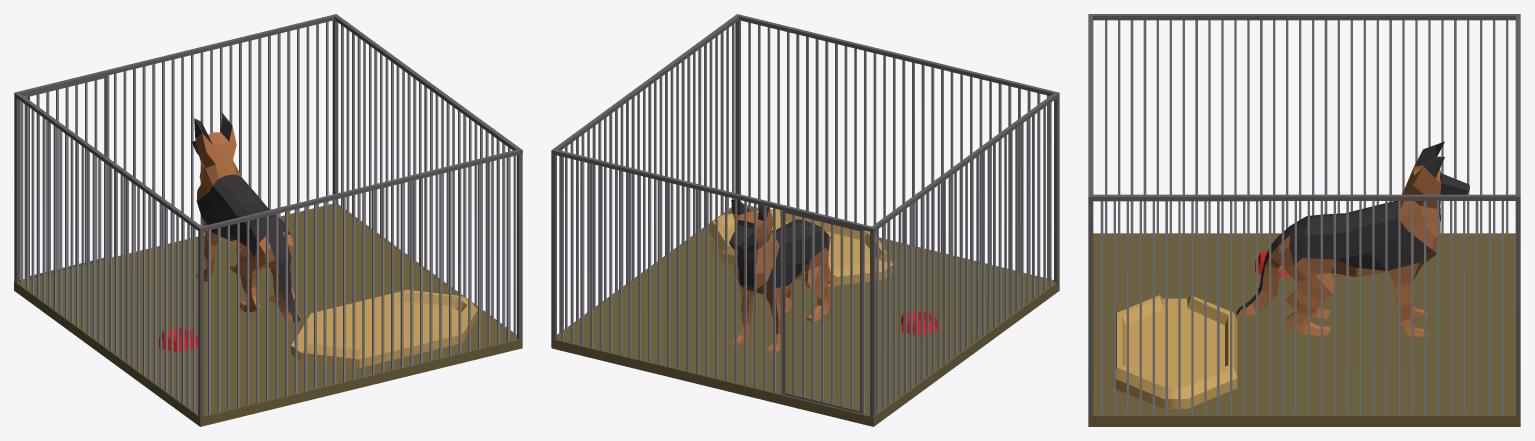
The model's file is g_o_K9Unit.fbx.
3 views of the same model, side by side, from view 1: azimuth 30°, elevation 25°; view 2: azimuth 150°, elevation 25°; view 3: azimuth 270°, elevation 25° (orthographic). The views are drawn at different scales.
Visible parts, largest first — view 1: cage, doggo, bed, cage_gate, bowl; view 2: cage, doggo, cage_gate, bed, bowl; view 3: cage, doggo, bed.
Part boxes in pixels (<box>): cage: <box>14,14,522,426</box>; doggo: <box>192,112,301,321</box>; bed: <box>291,289,477,367</box>; cage_gate: <box>27,76,106,278</box>; bowl: <box>159,327,197,352</box>; cage: <box>551,14,1059,426</box>; doggo: <box>729,199,838,353</box>; cage_gate: <box>782,210,862,413</box>; bed: <box>708,209,892,286</box>; bowl: <box>901,310,937,335</box>; cage: <box>1088,14,1520,426</box>; doggo: <box>1236,141,1469,336</box>; bed: <box>1113,295,1237,408</box>.
Size of the model in its own units: 1.8 by 1.06 by 1.8.
